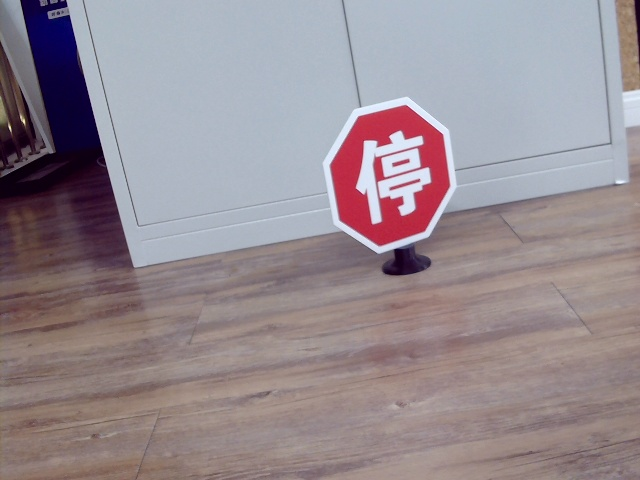stop: (352, 130, 431, 221)
